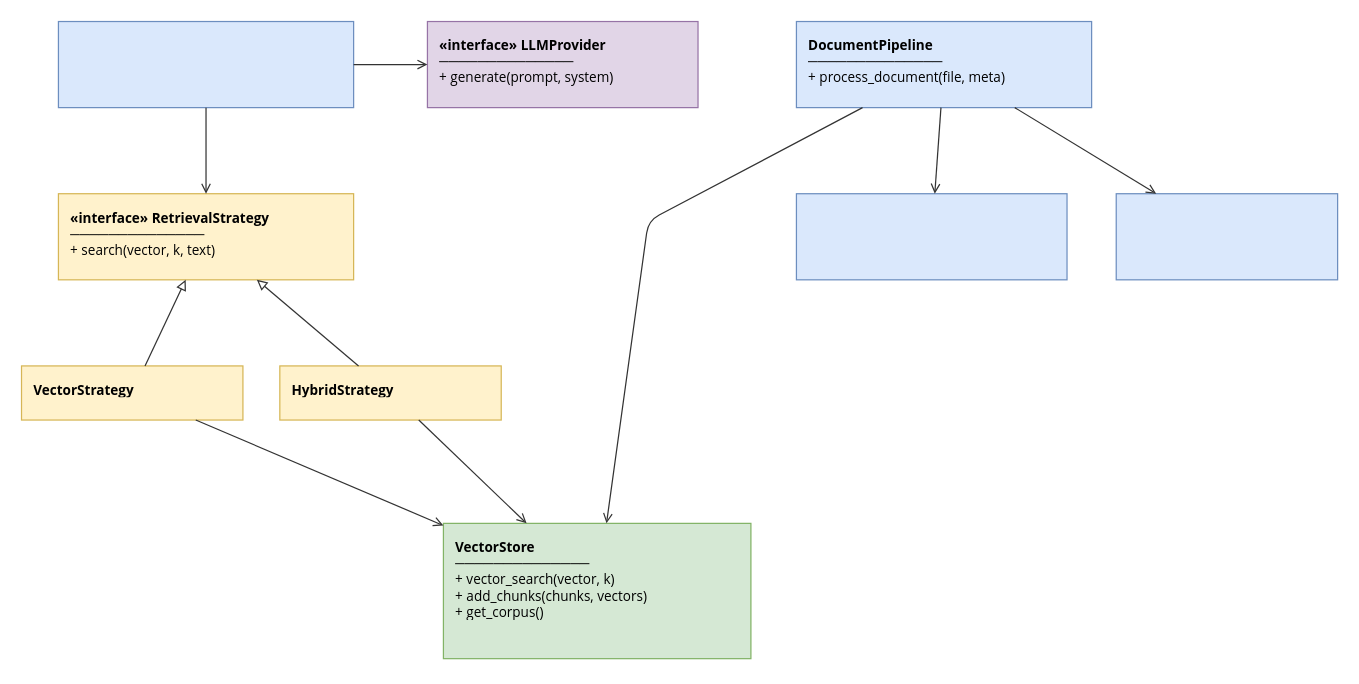
The diagram is 1359 pixels wide and 684 high, and some of its shapes have lost their labels. The centre of each missing label's shape, as x and y in pixels:
"Chunker ────────────── + chunk_document(text, meta)" goes at [931,236].
"EnrichStep ────────────── + process(ctx)" goes at [1226,236].
"QueryPipeline ────────────── + process_query(cauHoi) : KetQuaTraLoi" goes at [205,64].
